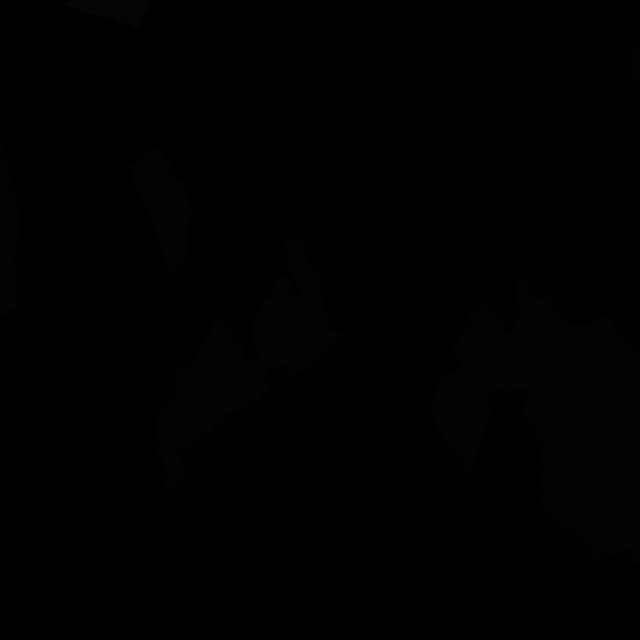cardboard: (452, 278, 640, 564), (154, 237, 356, 489), (127, 144, 192, 279), (432, 368, 495, 478), (0, 137, 20, 317), (630, 38, 640, 103)
soft_plastic: (62, 0, 148, 28)
